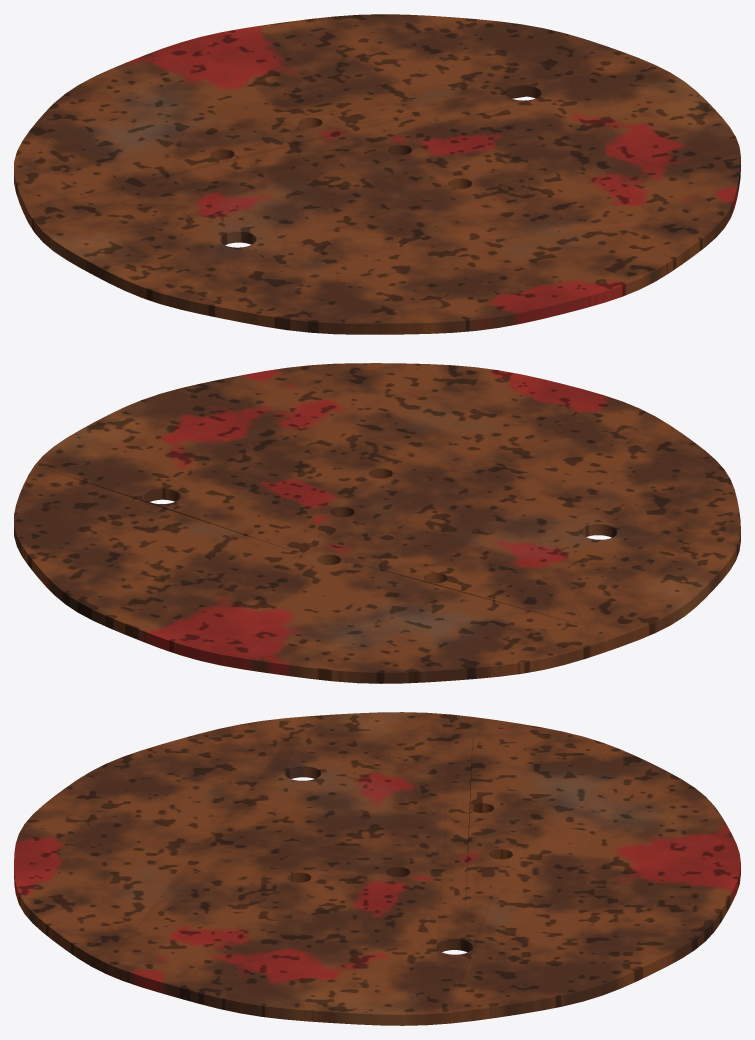
Rendered from SM_Couvercle_Trou.glb.
The picture shows the model from 3 angles, top to bottom: view 1: azimuth 30°, elevation 25°; view 2: azimuth 150°, elevation 25°; view 3: azimuth 270°, elevation 25°; orthographic projection.
Parts seen in each view (by area): view 1: SM_Couvercle_Trou; view 2: SM_Couvercle_Trou; view 3: SM_Couvercle_Trou.
Part boxes in pixels (x1,y1,x2,y2): SM_Couvercle_Trou: (14, 14, 740, 334); SM_Couvercle_Trou: (14, 363, 740, 683); SM_Couvercle_Trou: (14, 712, 740, 1025).
Bounding box in the file's own units: 0.7638 × 0.022 × 0.762.
1 material, 1 textured.
